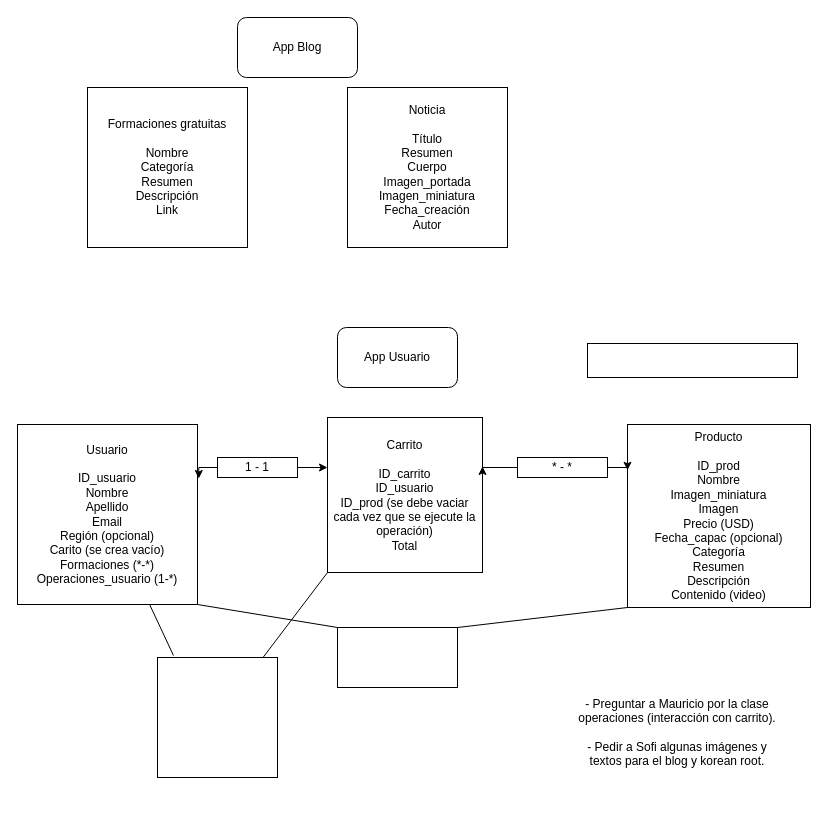
Image size: 828x825. Some labels were removed from this diagram. Each missing label, with the centre of its shape:
"Operaciones Fecha_de_compra ID_carrito ID_usuario" goes at (x=217, y=717).
"Prod_Usuario *-*" goes at (x=397, y=657).
"Si sobra tiempo, ver tema precios por región" goes at (x=692, y=360).
